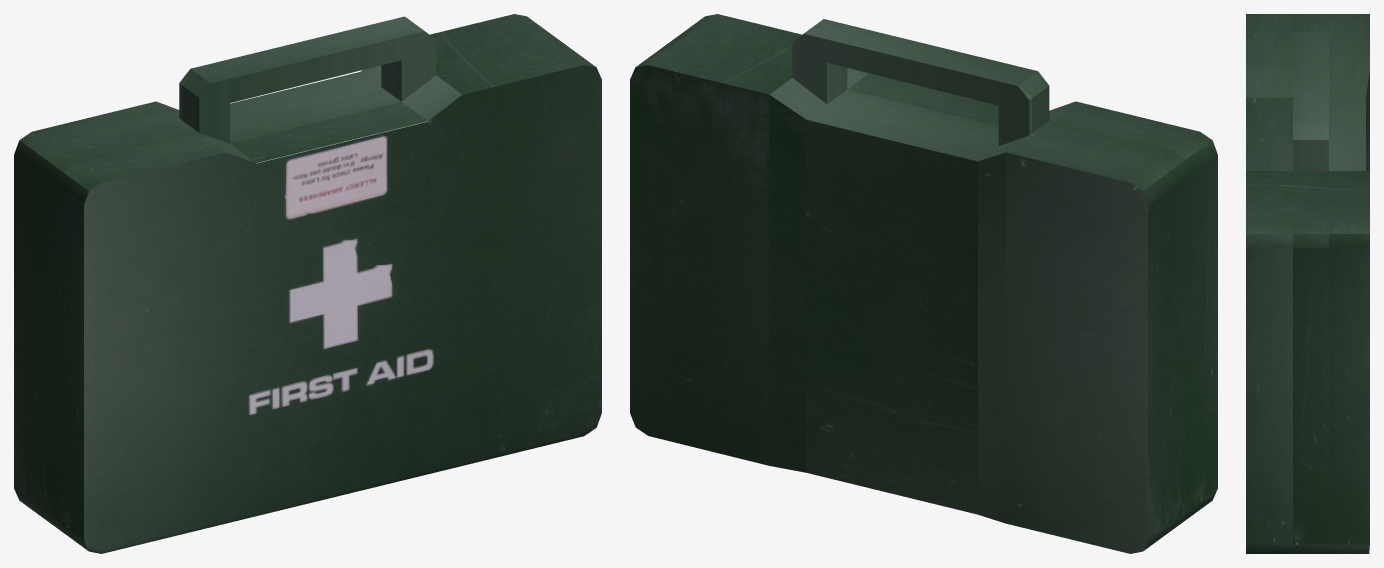
File: first aid box.fbx
3 views of the same model, side by side, from view 1: azimuth 30°, elevation 25°; view 2: azimuth 150°, elevation 25°; view 3: azimuth 270°, elevation 25° (orthographic). The views are drawn at different scales.
Visible parts, largest first — view 1: pCube1; view 2: pCube1; view 3: pCube1.
Part boxes in pixels (x1,y1,x2,y2): pCube1: [14, 14, 601, 553]; pCube1: [630, 14, 1217, 553]; pCube1: [1246, 14, 1369, 553].
Bounding box in the file's own units: 25.85 × 19.93 × 6.03.
1 material, 1 textured.
